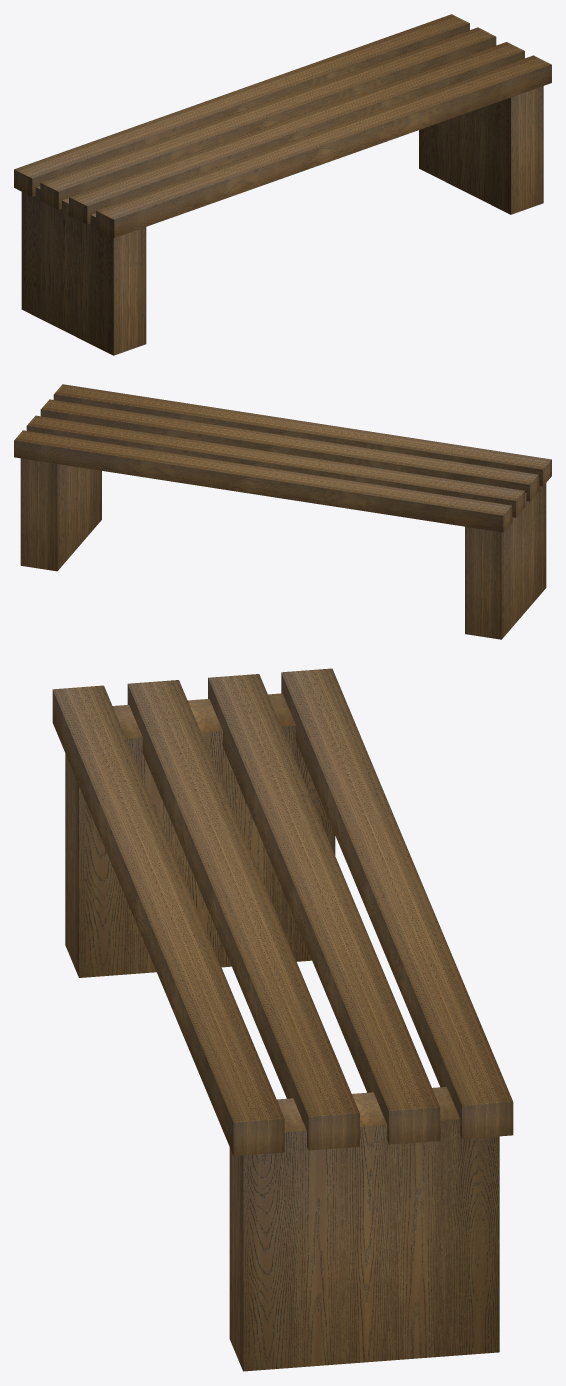
The model's file is Obstacle_087.obj.
3 renders of one model, top to bottom at view 1: azimuth 30°, elevation 25°; view 2: azimuth 150°, elevation 25°; view 3: azimuth 270°, elevation 25°, orthographic. The views are drawn at different scales.
Parts seen in each view (by area): view 1: Box168, Box166, Box167; view 2: Box168, Box166, Box167; view 3: Box168, Box167, Box166.
Part boxes in pixels (bbox=[...]): Box168: bbox=[14, 14, 551, 237]; Box166: bbox=[21, 186, 146, 355]; Box167: bbox=[419, 86, 543, 214]; Box168: bbox=[14, 384, 551, 532]; Box166: bbox=[465, 478, 546, 639]; Box167: bbox=[20, 458, 101, 571]; Box168: bbox=[52, 668, 513, 1155]; Box167: bbox=[229, 1087, 499, 1371]; Box166: bbox=[65, 693, 335, 977].
Bounding box in the file's own units: 81.27 × 21.16 × 34.82.
